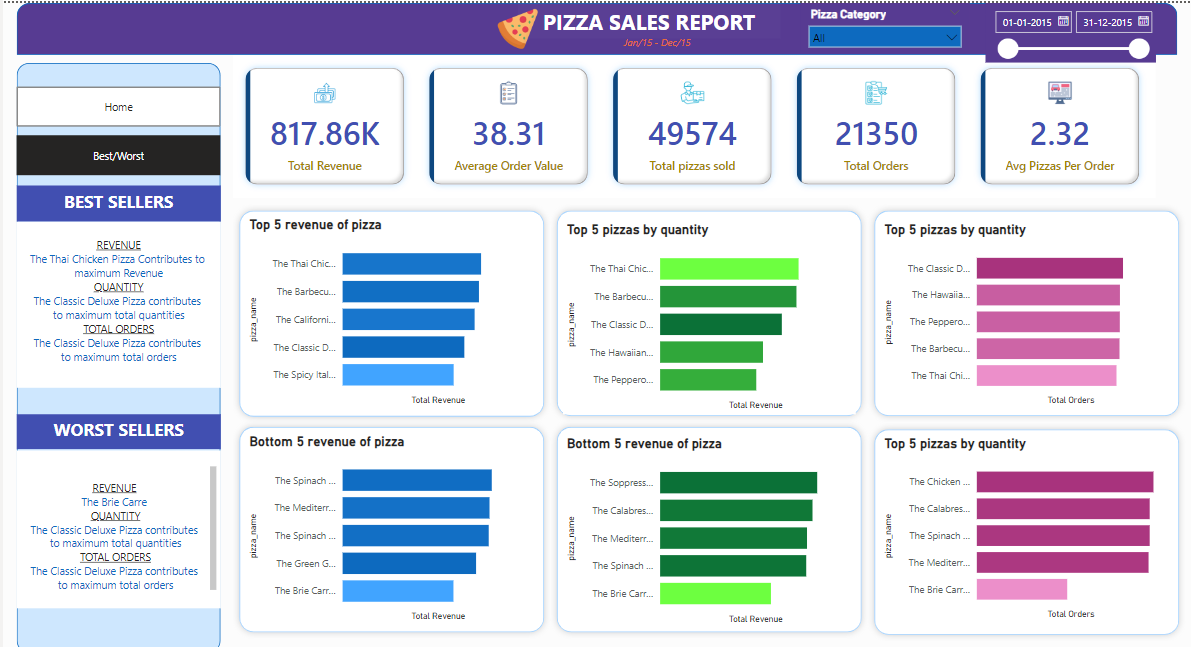

What the dashboard file says about the page in this screenshot:
{"tool":"powerbi","page":{"name":"Best/Worst","canvas":[1500,820],"ordinal":1},"visuals":[{"type":"cardVisual","fields":{"Data":["pizza_sales.Total Revenue","pizza_sales.Average Order Value","pizza_sales.Total pizzas sold","pizza_sales.Total Orders","pizza_sales.Avg Pizzas Per Order"]},"box":[290.3,66.3,1164.5,179.9],"z":0},{"type":"shape","box":[17.7,0,1465.1,65.4],"z":1000},{"type":"textbox","box":[649.5,0,330.9,44.9],"z":2000},{"type":"textbox","box":[750.3,34,152.5,31.3],"z":3000},{"type":"image","box":[618.2,0,62.6,65.4],"z":4000},{"type":"shape","box":[290.3,254.1,400.8,276.1],"z":5000},{"type":"shape","box":[690.7,254.1,400.7,275.3],"z":6000},{"type":"shape","box":[290,527.8,400.7,275.3],"z":7000},{"type":"shape","box":[1091.4,529.4,400.7,275.3],"z":8000},{"type":"shape","box":[690.7,527.8,400.7,275.3],"z":9000},{"type":"shape","box":[17.4,75.7,257.2,744.8],"z":10000},{"type":"textbox","box":[17.4,230.4,257.2,45.8],"z":11000},{"type":"textbox","box":[17.4,276.1,257.2,209.9],"z":12000},{"type":"textbox","box":[17.4,564.9,257.2,198.8],"z":13000},{"type":"textbox","box":[17.4,519.1,257.2,44.2],"z":14000},{"type":"slicer","fields":{"Values":["pizza_sales.pizza_category"]},"box":[1006.7,0,213.4,61.9],"z":15000},{"type":"slicer","fields":{"Values":["pizza_sales.order_date"]},"box":[1239.7,0,215,74.9],"z":16000},{"type":"shape","box":[1091.4,254.1,400.7,275.3],"z":17000},{"type":"barChart","title":"Top 5 revenue of pizza","fields":{"Category":["pizza_sales.pizza_name"],"Y":["pizza_sales.Total Revenue"]},"box":[306.1,269.8,369.2,243],"z":18000},{"type":"barChart","title":"Bottom 5 revenue of pizza","fields":{"Category":["pizza_sales.pizza_name"],"Y":["pizza_sales.Total Revenue"]},"box":[306.1,542.8,369.2,243],"z":19000},{"type":"barChart","title":"Top 5 pizzas by quantity","fields":{"Category":["pizza_sales.pizza_name"],"Y":["pizza_sales.Total Revenue"]},"box":[706.9,276.1,369.2,243],"z":20000},{"type":"barChart","title":"Bottom 5 revenue of pizza","fields":{"Category":["pizza_sales.pizza_name"],"Y":["pizza_sales.Total Revenue"]},"box":[706.9,546,369.2,243],"z":20001},{"type":"barChart","title":"Top 5 pizzas by quantity","fields":{"Category":["pizza_sales.pizza_name"],"Y":["pizza_sales.Total Orders"]},"box":[1107.7,276.1,364.5,236.7],"z":20002},{"type":"barChart","title":"Top 5 pizzas by quantity","fields":{"Category":["pizza_sales.pizza_name"],"Y":["pizza_sales.Total Orders"]},"box":[1107.7,546,364.5,236.7],"z":20003},{"type":"pageNavigator","box":[17.4,105.7,257.2,50.5],"z":20004},{"type":"pageNavigator","box":[17.4,167.3,257.2,50.5],"z":20005}]}

Visuals, with their boxes in screenshot pixels (x1, y1, x2, y2), scaled from the page's 1500x820 canvas onto the 1191x647 screenshot:
cardVisual - pizza_sales.Total Revenue x pizza_sales.Average Order Value: rect(230, 52, 1155, 194)
shape: rect(14, 0, 1177, 52)
textbox: rect(516, 0, 778, 35)
textbox: rect(596, 27, 717, 52)
image: rect(491, 0, 541, 52)
shape: rect(230, 200, 549, 418)
shape: rect(548, 200, 867, 418)
shape: rect(230, 416, 548, 634)
shape: rect(867, 418, 1185, 635)
shape: rect(548, 416, 867, 634)
shape: rect(14, 60, 218, 646)
textbox: rect(14, 182, 218, 218)
textbox: rect(14, 218, 218, 383)
textbox: rect(14, 446, 218, 603)
textbox: rect(14, 410, 218, 444)
slicer - pizza_sales.pizza_category: rect(799, 0, 969, 49)
slicer - pizza_sales.order_date: rect(984, 0, 1155, 59)
shape: rect(867, 200, 1185, 418)
"Top 5 revenue of pizza" barChart: rect(243, 213, 536, 405)
"Bottom 5 revenue of pizza" barChart: rect(243, 428, 536, 620)
"Top 5 pizzas by quantity" barChart: rect(561, 218, 854, 410)
"Bottom 5 revenue of pizza" barChart: rect(561, 431, 854, 623)
"Top 5 pizzas by quantity" barChart: rect(880, 218, 1169, 405)
"Top 5 pizzas by quantity" barChart: rect(880, 431, 1169, 618)
pageNavigator: rect(14, 83, 218, 123)
pageNavigator: rect(14, 132, 218, 172)
